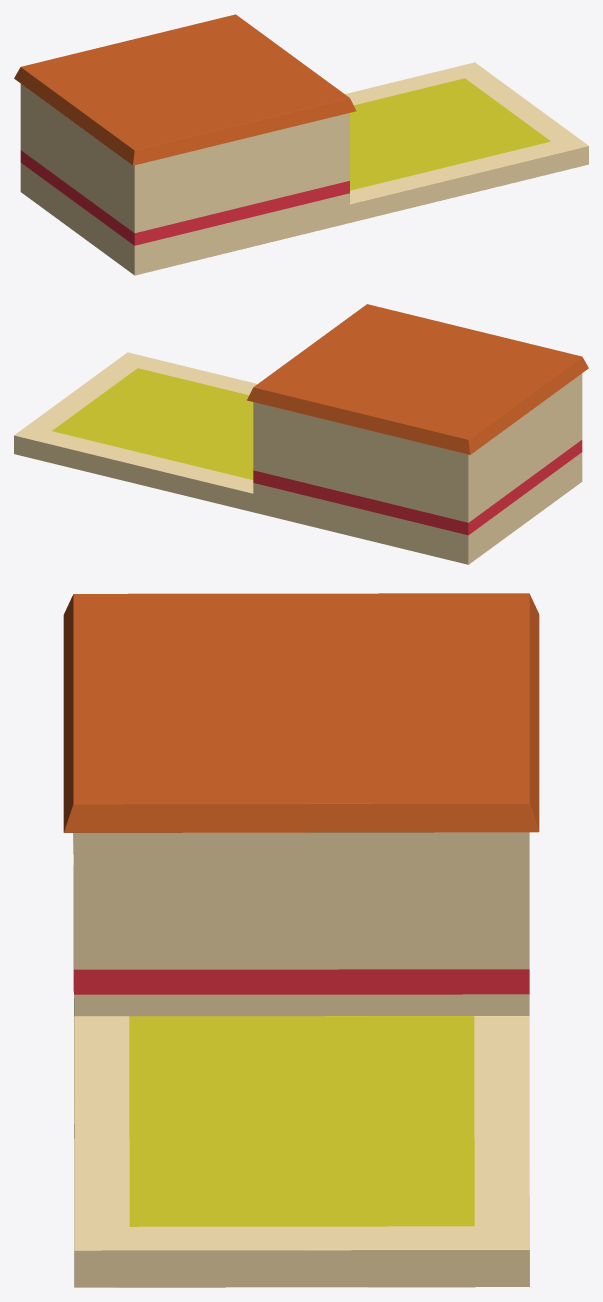
Rendered from House_15.fbx.
3 renders of one model, top to bottom at view 1: azimuth 30°, elevation 25°; view 2: azimuth 150°, elevation 25°; view 3: azimuth 270°, elevation 25°, orthographic. The views are drawn at different scales.
Parts seen in each view (by area): view 1: House_15; view 2: House_15; view 3: House_15.
Part boxes in pixels (x1,y1,x2,y2): House_15: (14, 14, 588, 275); House_15: (14, 304, 588, 564); House_15: (63, 593, 539, 1287).
Size of the model in its own units: 384 by 100 by 172.
